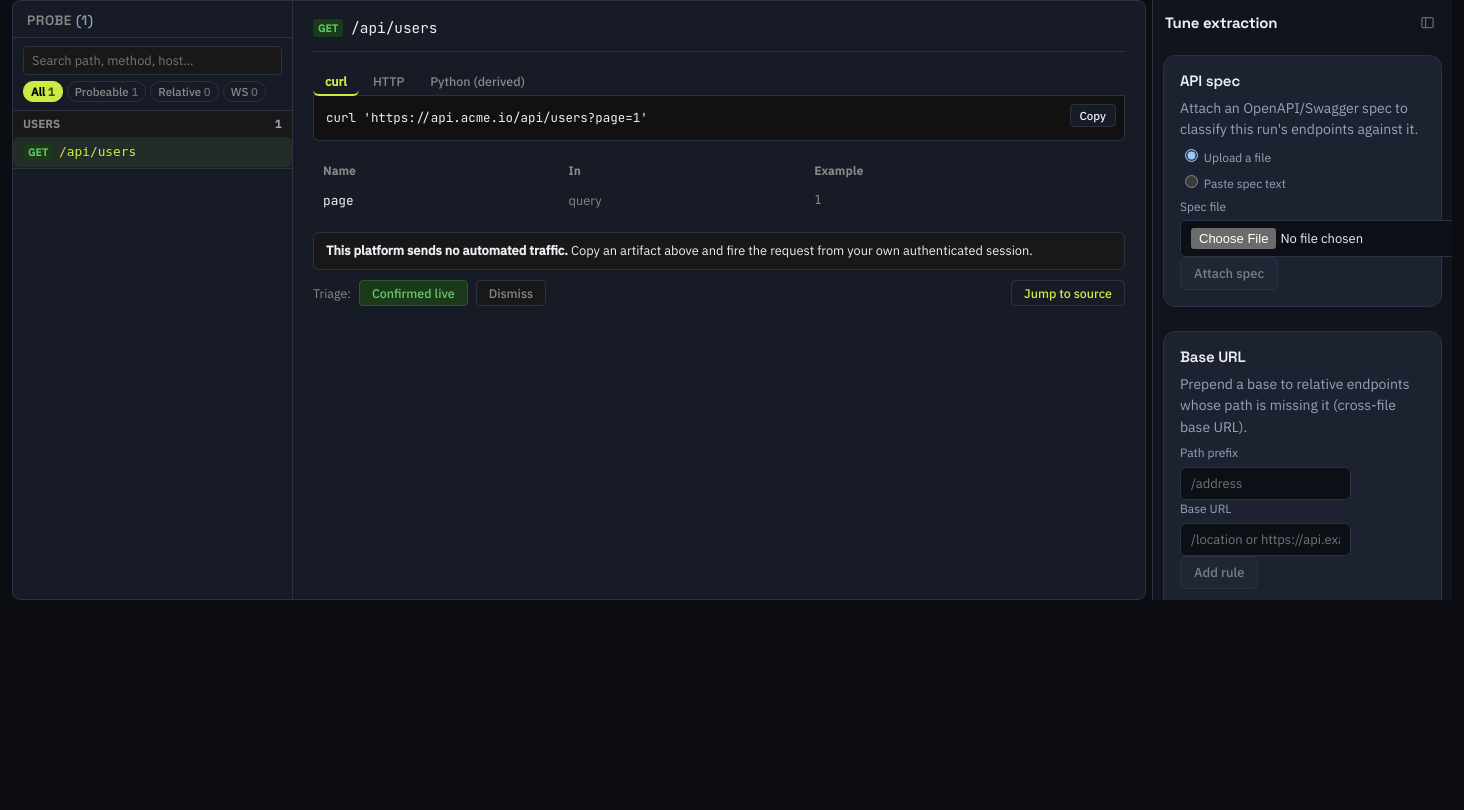
Test: ProbePanel › shows copied feedback for 1.2s then resets
This screenshot has width=1464, height=810.
Click the button "Copy". click: (1093, 116)
box: [1070, 104, 1116, 127]
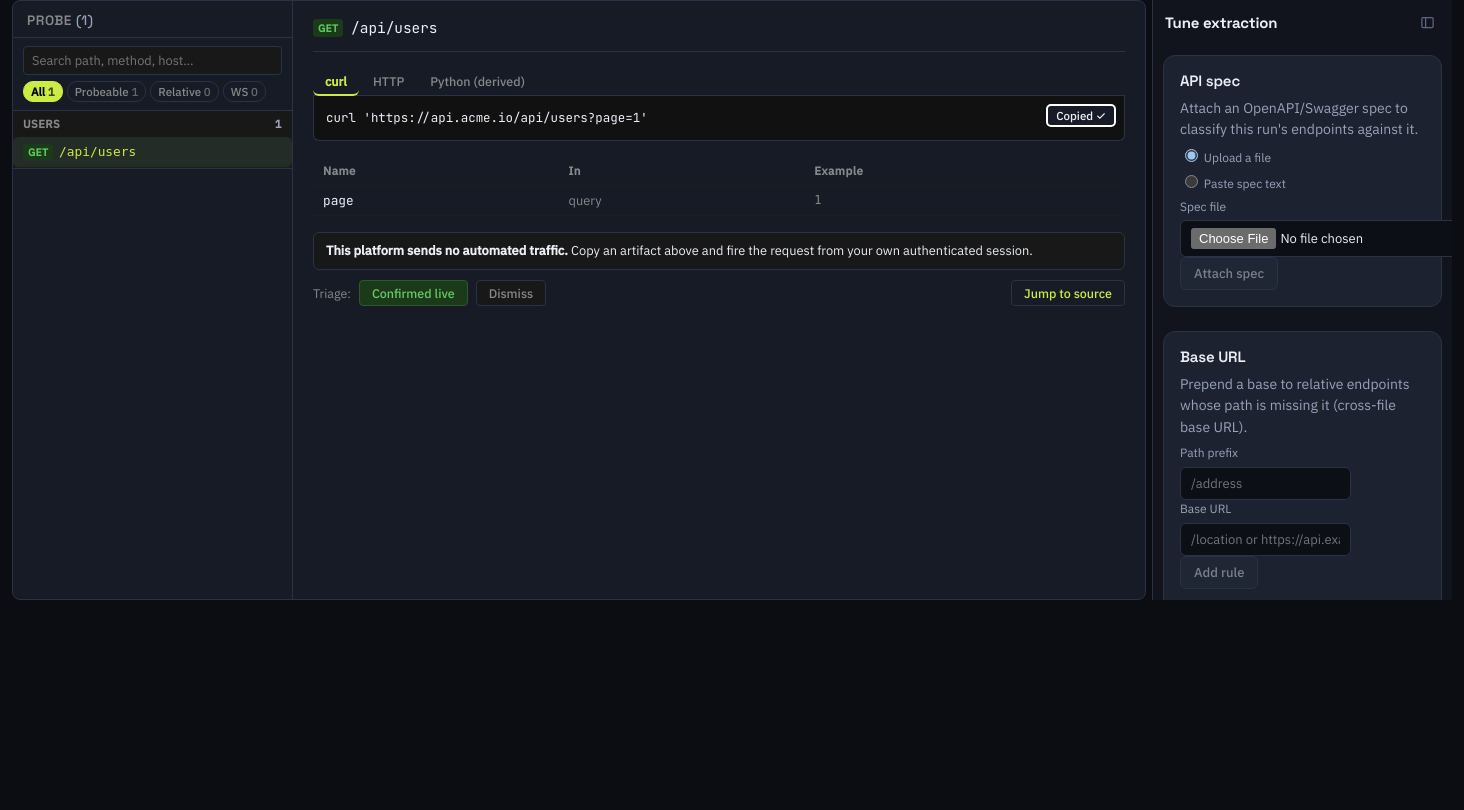
Check: the button "Copied ✓" is shown, box [1046, 104, 1116, 127]
